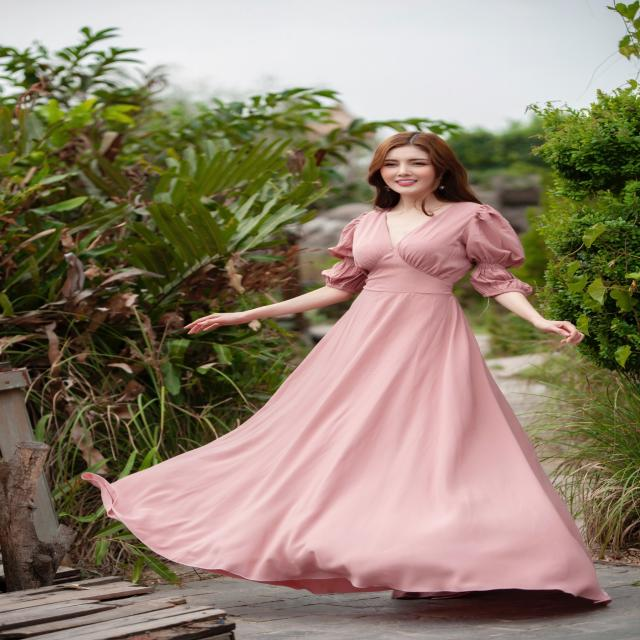clothes: (192, 203, 611, 605)
